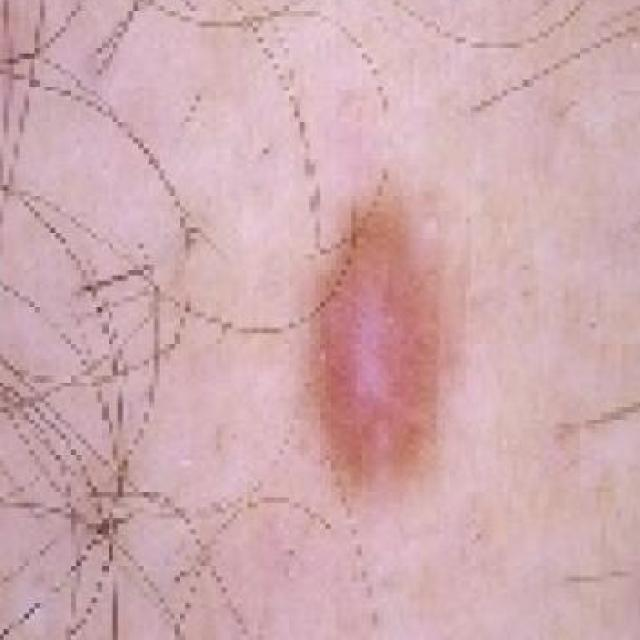DF: (255, 59, 517, 563)
